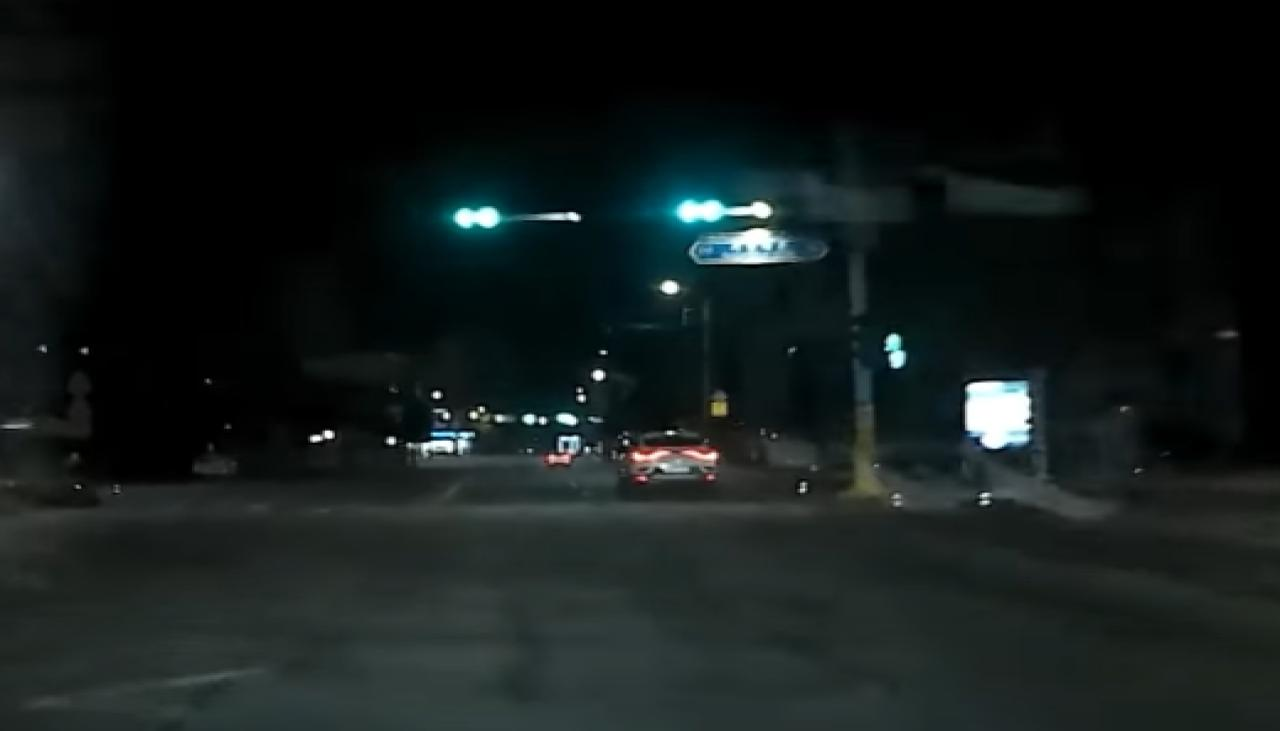Green Light: (700, 198, 723, 223), (477, 207, 500, 230)
Left turn: (448, 205, 477, 230), (674, 200, 703, 223)
